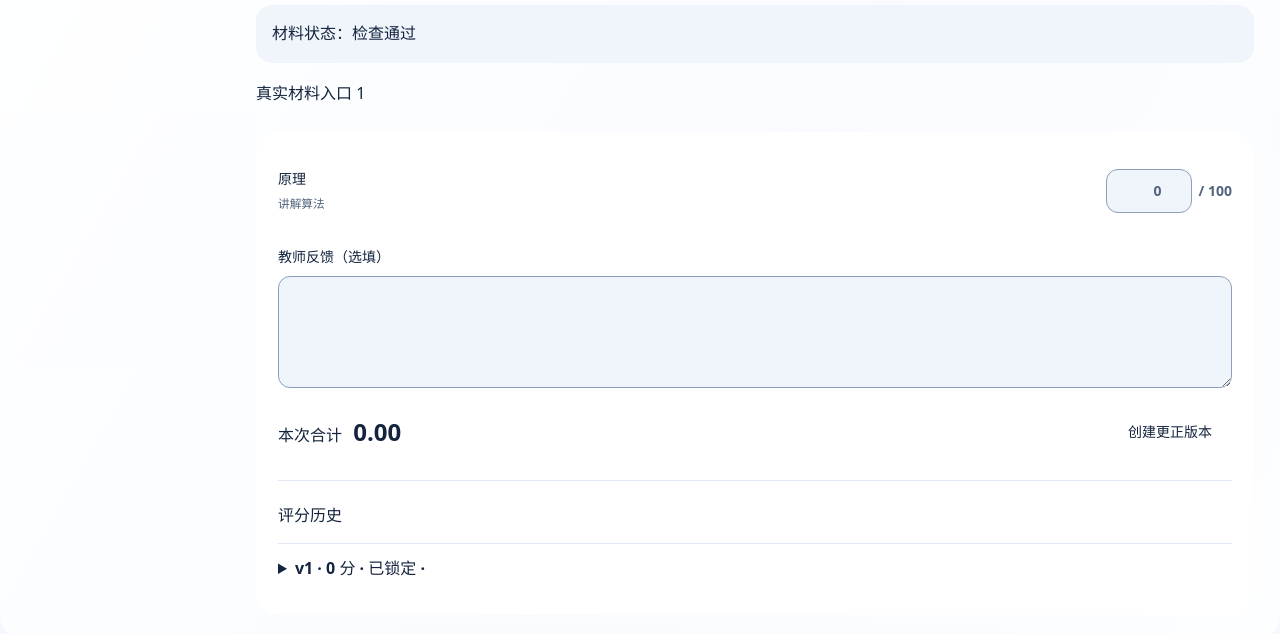
Scenario: 保存更正版本后更新加权总分，并提示最新教师分待锁定
(page scrolled)
Step 1. Click the button "创建更正版本" → click(1170, 433), box [1108,410,1232,456]
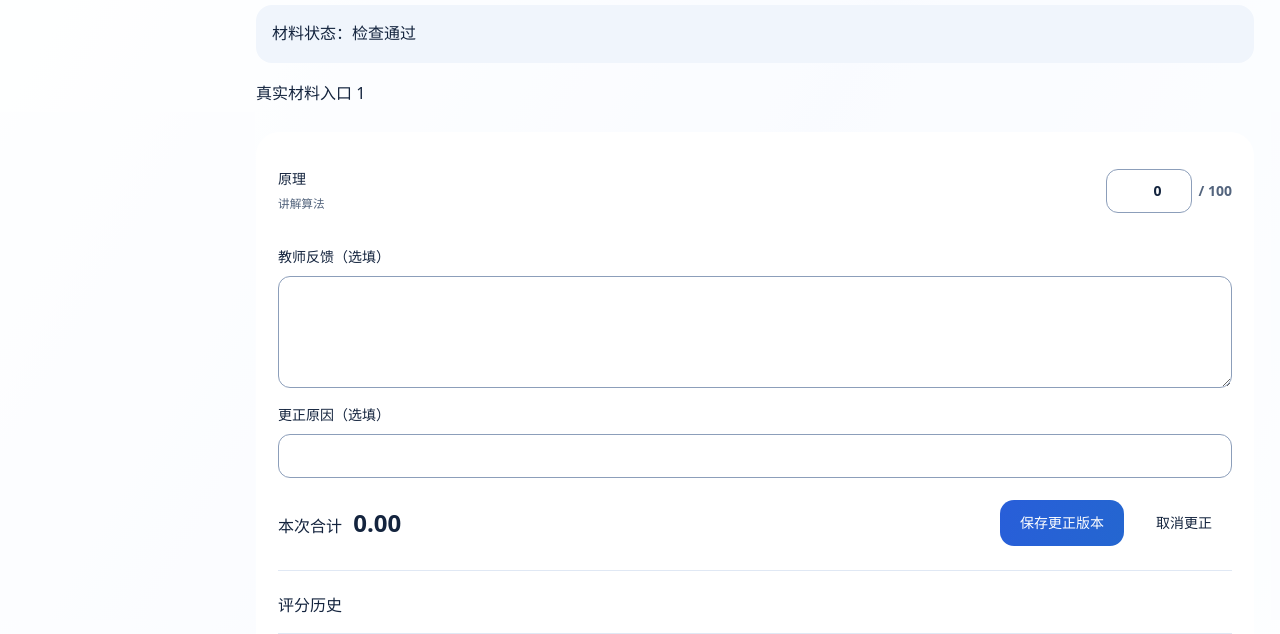
Step 2. Replace the text in the number field labelled "原理 讲解算法 / 100" with "96.98" → (1148, 191), box [1106,169,1192,213]
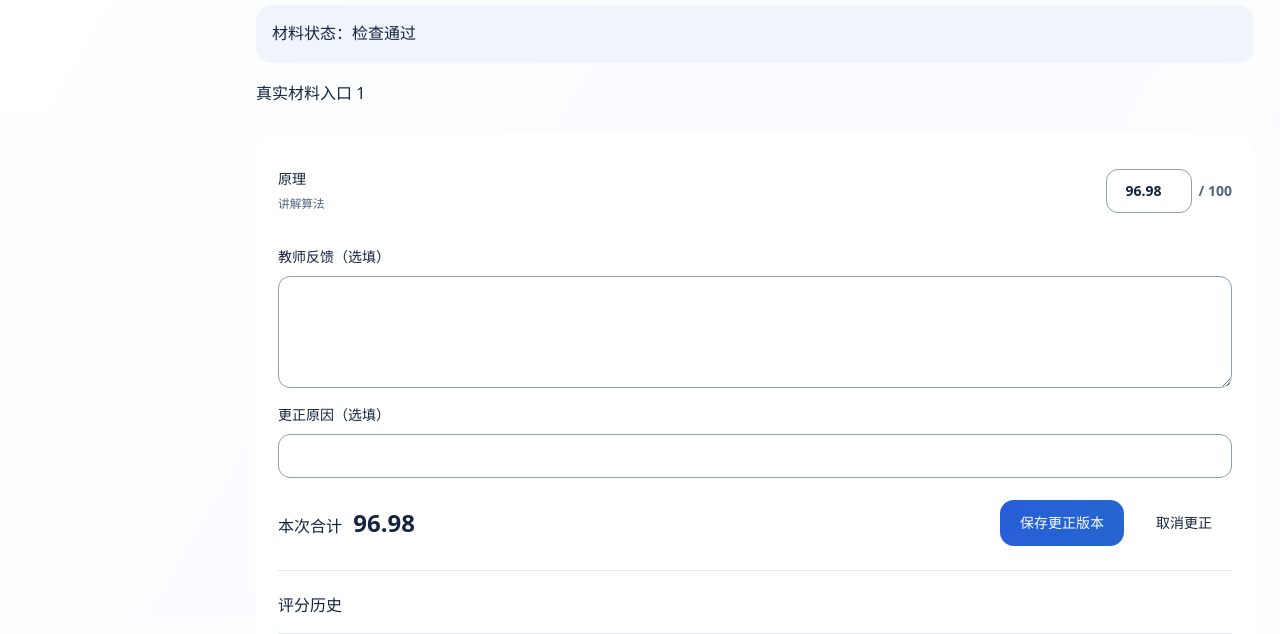
Step 3. Submit the form, box [278,154,1232,546]
(page scrolled)
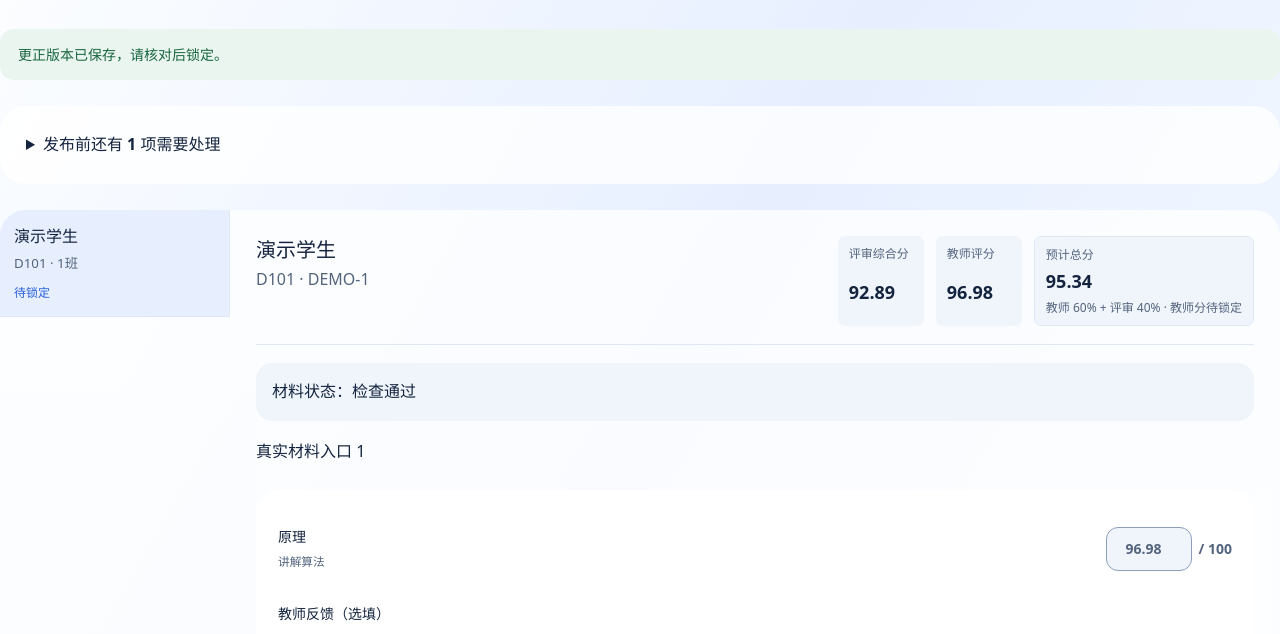
Expected: the text "95.34" is shown, [1046,269,1092,293]
Expected: the element showing "预计总分 95.34 教师 60% + 评审 40% · 教师分待锁定" is shown, [1034,236,1254,326]
